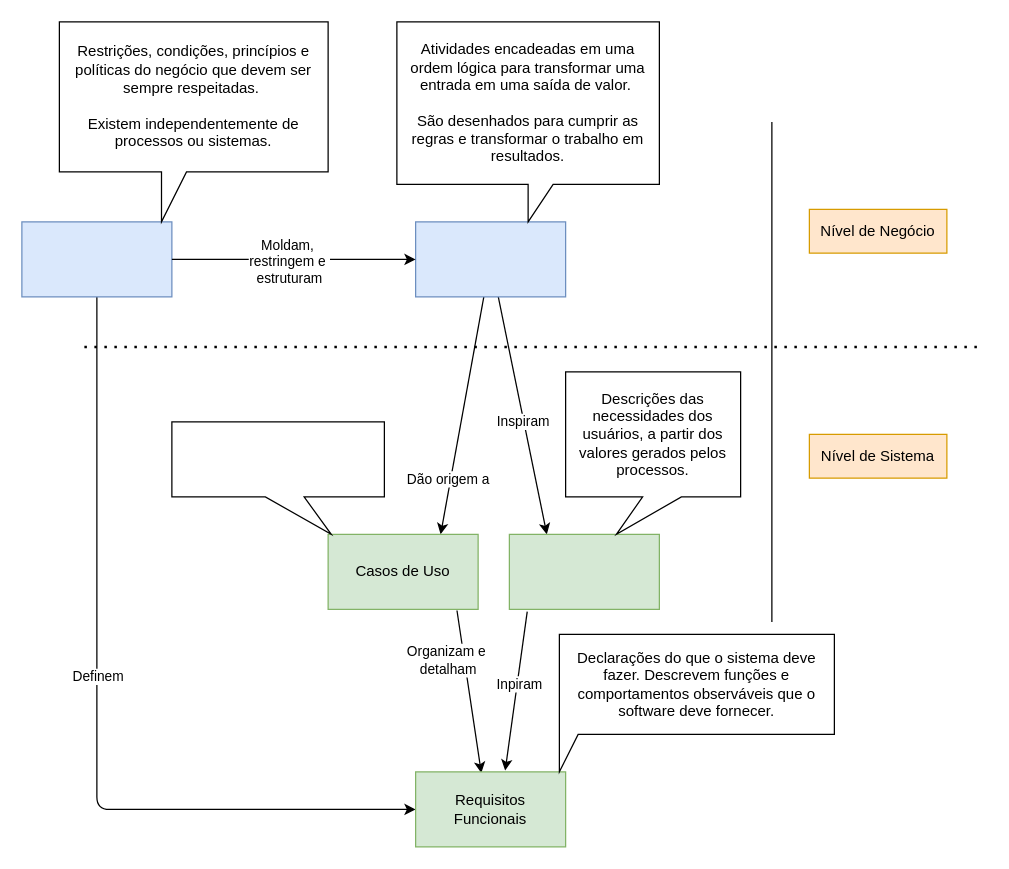
Image size: 1009x869. Some labels were removed from this diagram. The centre of each missing label's shape, as x and y in pixels:
Histórias de Usuário: the point at 583,571
Processos de Negócio: the point at 490,259
Recortes dos processos de negócio que envolvem interação com o sistema.: the point at 277,477
Regras de Negócio: the point at 96,259
